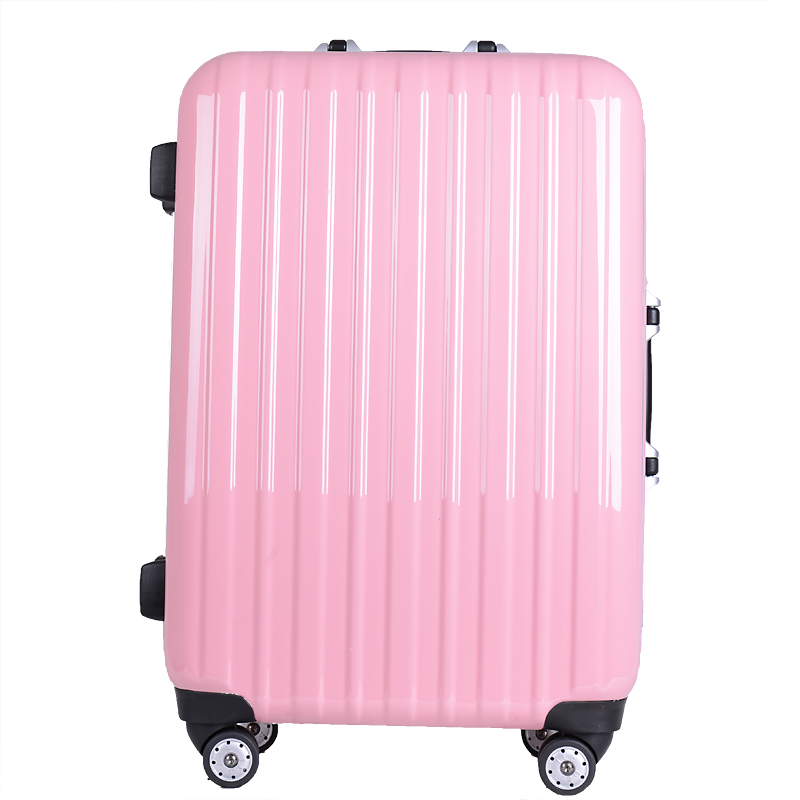luggage: (138, 40, 660, 798)
